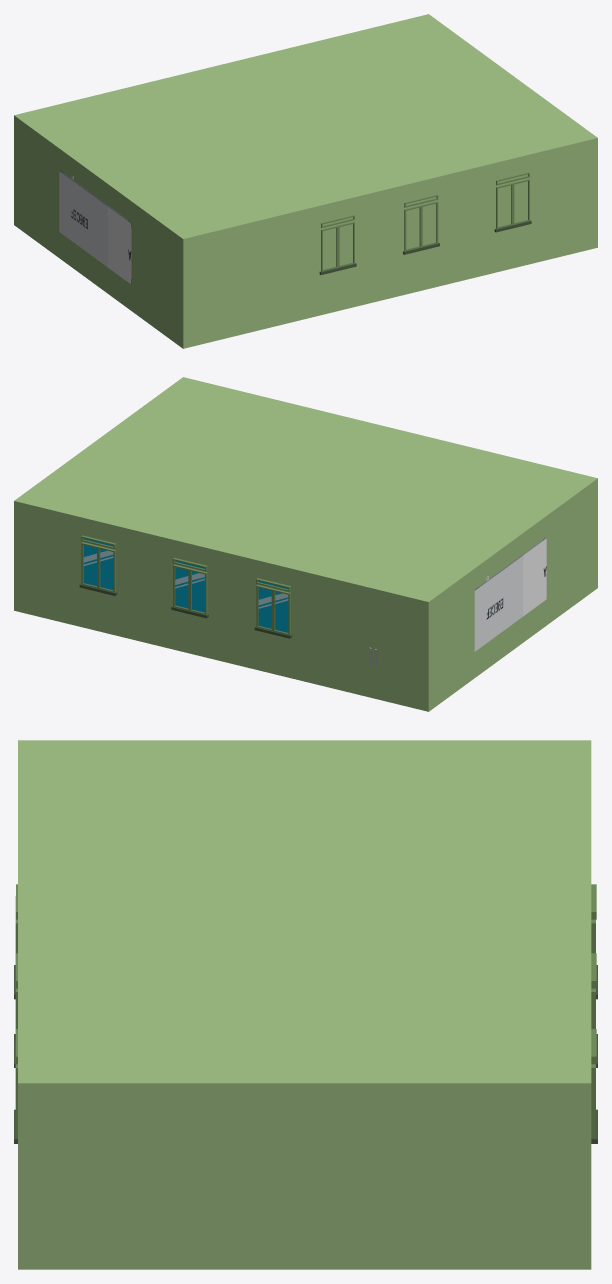
The model's file is ruang kelas.gltf.
3 renders of one model, top to bottom at view 1: azimuth 30°, elevation 25°; view 2: azimuth 150°, elevation 25°; view 3: azimuth 270°, elevation 25°, orthographic. The views are drawn at different scales.
Parts seen in each view (by area): view 1: atap, tembok, Cube, pintu.006, Cube.005; view 2: atap, tembok, Cube, pintu.006, Cube.071, Cube.085, Cube.081, Cube.005; view 3: atap, tembok, pintu.006, Cube.005.
Boxes of the visible parts, left/top/right/bottom form: atap: left=14, top=14, right=597, bottom=238; tembok: left=14, top=115, right=597, bottom=348; Cube: left=59, top=170, right=131, bottom=284; pintu.006: left=321, top=179, right=529, bottom=271; Cube.005: left=321, top=172, right=529, bottom=227; atap: left=14, top=377, right=597, bottom=601; tembok: left=14, top=478, right=597, bottom=711; Cube: left=474, top=537, right=546, bottom=651; pintu.006: left=81, top=542, right=290, bottom=635; Cube.071: left=258, top=587, right=288, bottom=632; Cube.085: left=175, top=567, right=204, bottom=612; Cube.081: left=84, top=545, right=113, bottom=589; Cube.005: left=81, top=535, right=290, bottom=591; atap: left=18, top=740, right=591, bottom=1083; tembok: left=18, top=1083, right=591, bottom=1269; pintu.006: left=15, top=896, right=595, bottom=1138; Cube.005: left=16, top=884, right=596, bottom=1064.
Size of the model in its own units: 9.3 by 2.4 by 6.69.
Materials: 6 (6 with a texture image).
